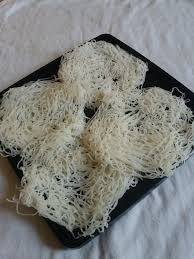idyappa: (1, 39, 194, 237)
